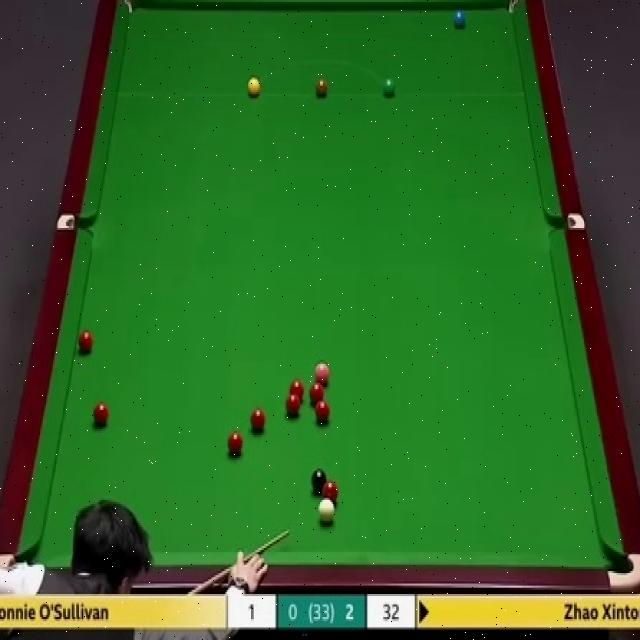black-ball: (311, 468, 328, 493)
blue-ball: (452, 8, 466, 30)
brown-ball: (316, 77, 329, 98)
green-ball: (382, 78, 396, 100)
pink-ball: (314, 360, 330, 386)
red-ball: (284, 393, 302, 418), (315, 398, 331, 426), (308, 381, 326, 404), (77, 328, 94, 352), (322, 478, 338, 503), (227, 432, 244, 455), (249, 407, 265, 431), (289, 379, 306, 401), (92, 403, 108, 424)
white-ball: (318, 498, 336, 527)
yellow-ball: (246, 77, 261, 98)
